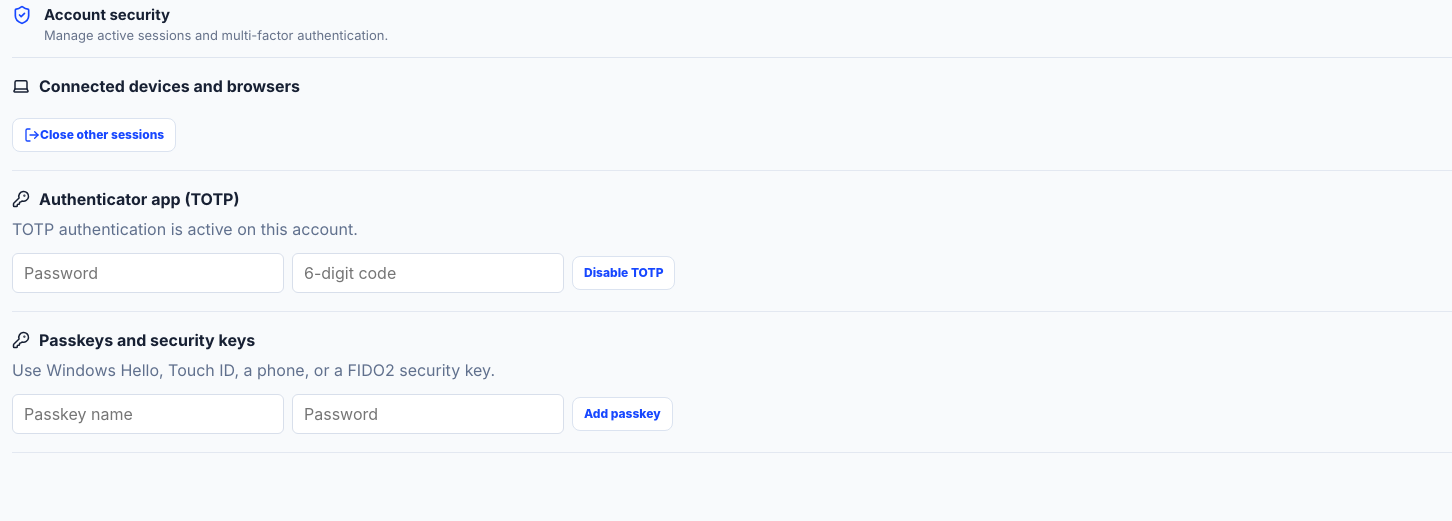
SecuritySettings › disables TOTP with the current password and a code
The image size is (1452, 521).
Step 1. Type "secret-password" into the password field with placeholder "Password" below "Authenticator app (TOTP)" → point(148, 273), box [12,253,284,293]
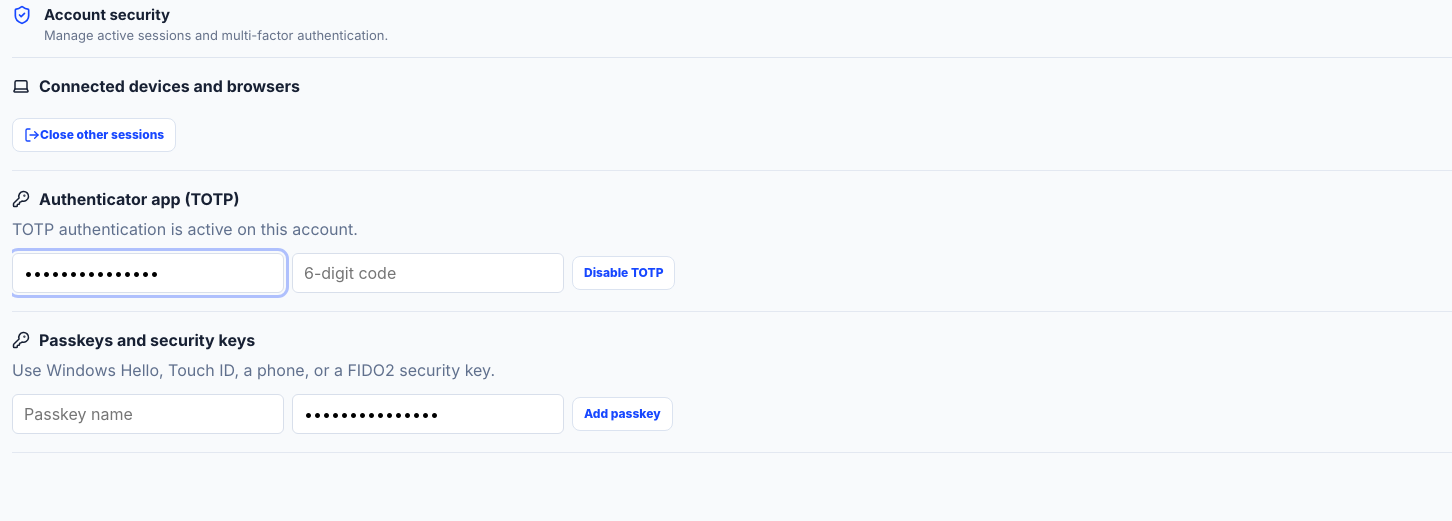
Step 2. Type "123456" into the field with placeholder "6-digit code" → point(428, 273), box [292,253,564,293]
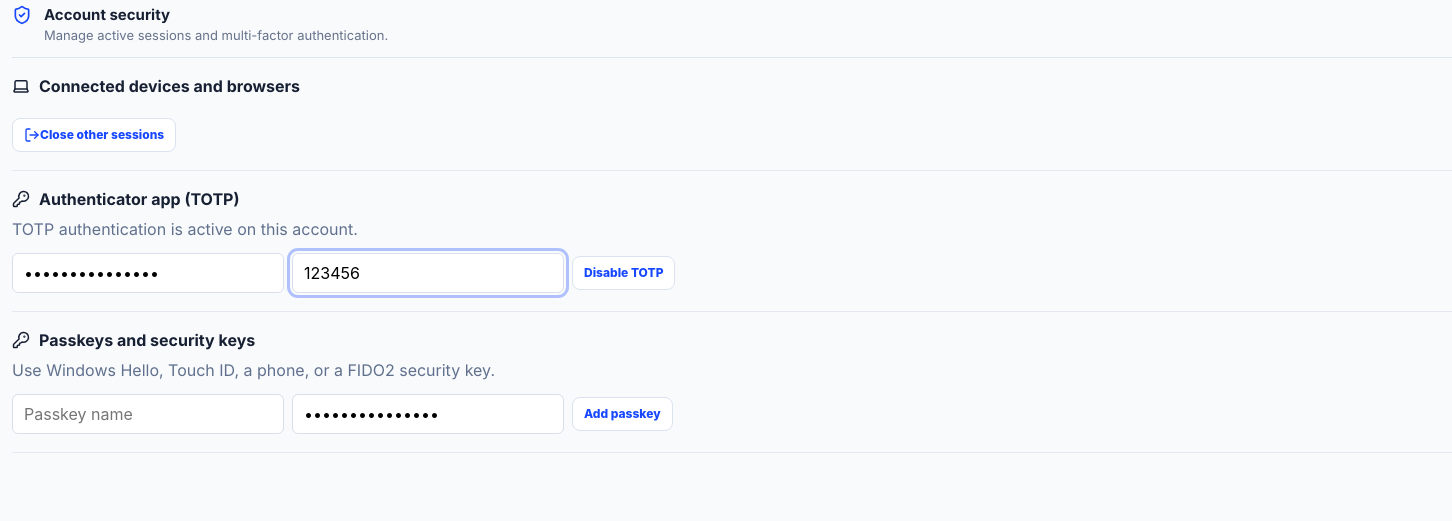
Step 3. Click the button "Disable TOTP" → point(624, 273), box [572,256,676,290]
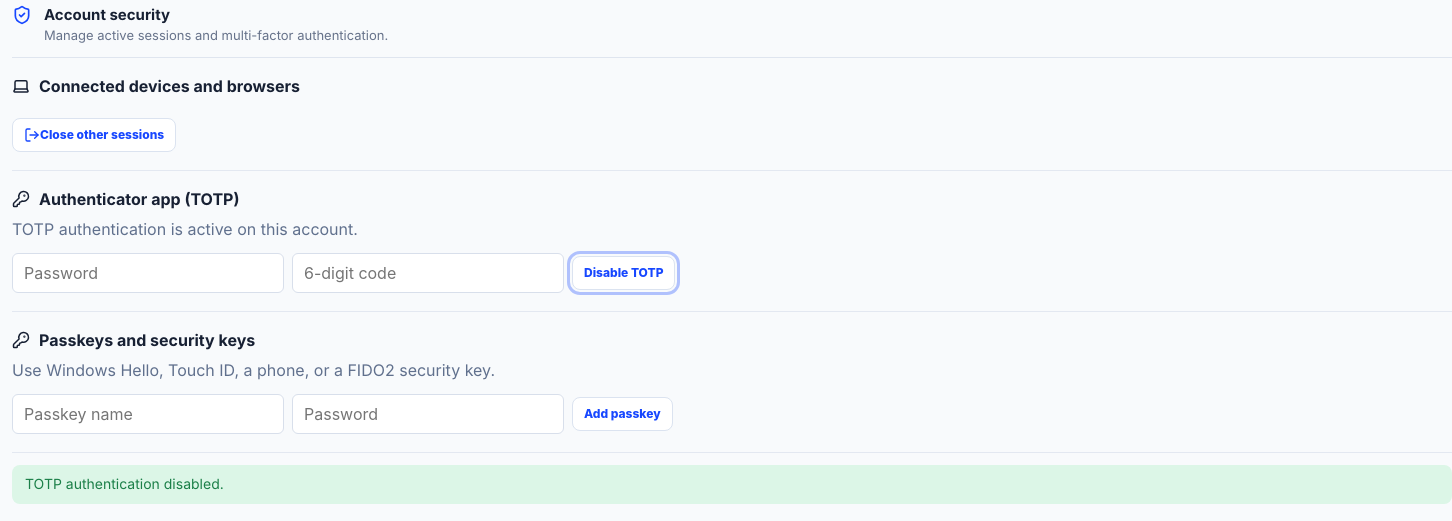
Check: the text "TOTP authentication disabled." is shown, box [12,465,1451,504]
